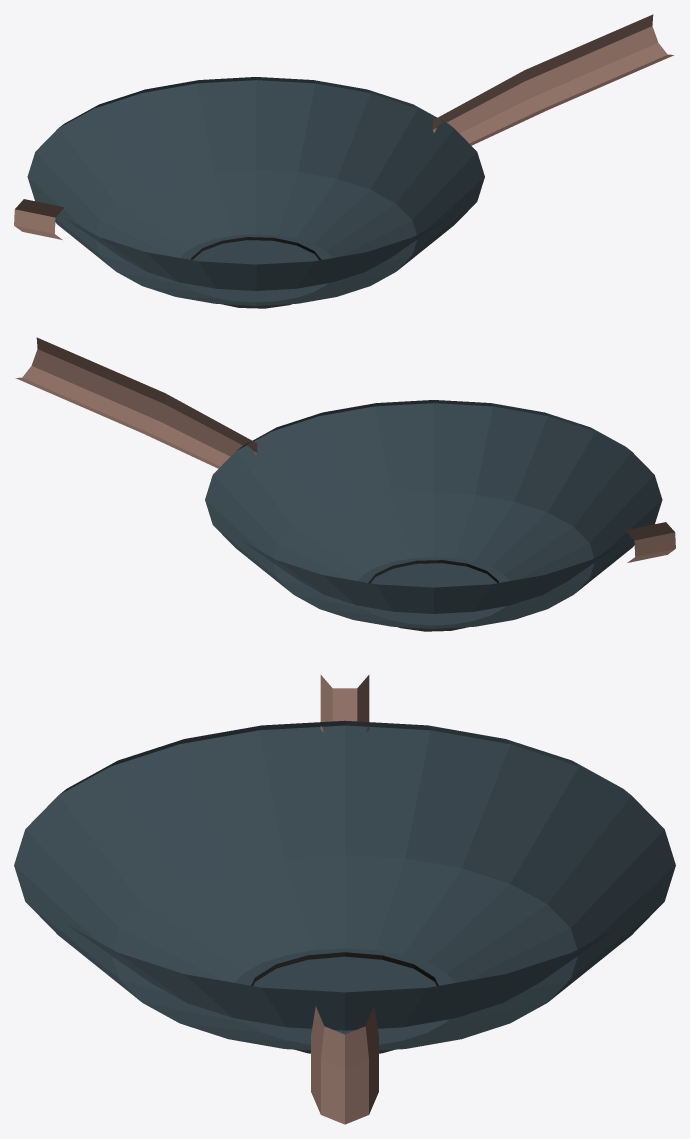
The model's file is wok.glb.
3 views of the same model, one above another, from view 1: azimuth 30°, elevation 25°; view 2: azimuth 150°, elevation 25°; view 3: azimuth 270°, elevation 25° (orthographic). The views are drawn at different scales.
Visible parts, largest first — view 1: wok; view 2: wok; view 3: wok.
Boxes of the visible parts, x1,y1,x2,y2 form: wok: [14, 14, 674, 308]; wok: [15, 337, 675, 631]; wok: [14, 675, 675, 1124].
Bounding box in the file's own units: 1.11 × 0.2744 × 0.68.
